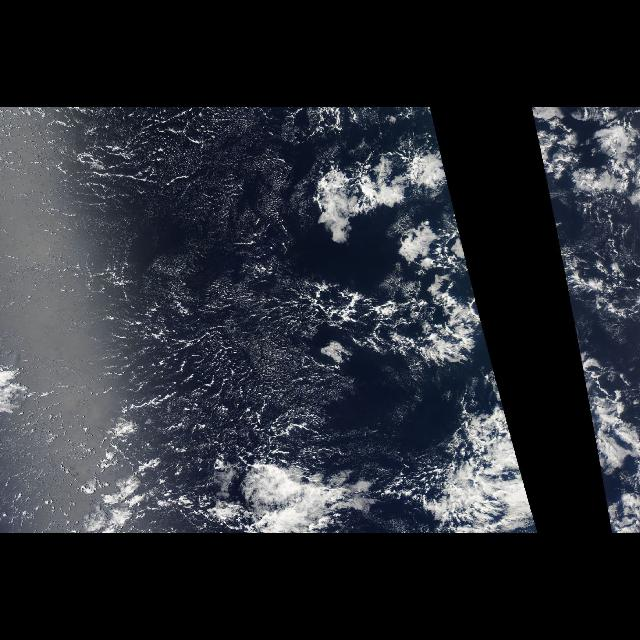Sugar: (32, 160, 300, 442)
